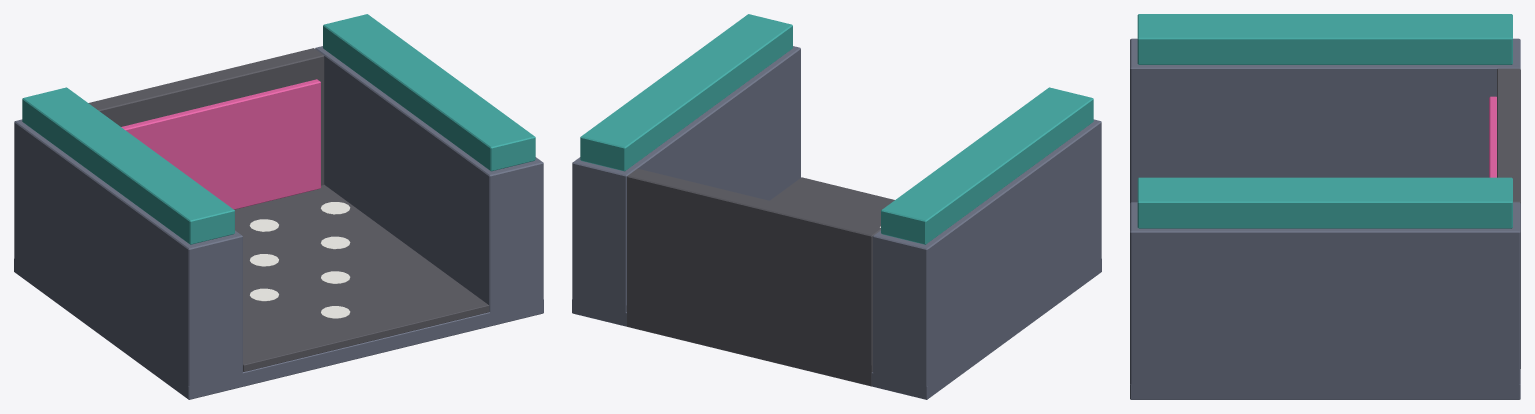
Rendered from bowling-alley-and-pool-hall-bowling-pin-deck-cleared-d09ee4f7__33842.glb.
3 renders of one model, left to right at view 1: azimuth 30°, elevation 25°; view 2: azimuth 150°, elevation 25°; view 3: azimuth 270°, elevation 25°, orthographic. The views are drawn at different scales.
Visible parts, largest first — view 1: bowling-pin-deck-cleared; view 2: bowling-pin-deck-cleared; view 3: bowling-pin-deck-cleared.
Boxes of the visible parts, x1,y1,x2,y2 form: bowling-pin-deck-cleared: [14, 14, 543, 399]; bowling-pin-deck-cleared: [572, 14, 1101, 399]; bowling-pin-deck-cleared: [1130, 14, 1520, 399].
Size of the model in its own units: 1.52 by 0.72 by 1.3.
